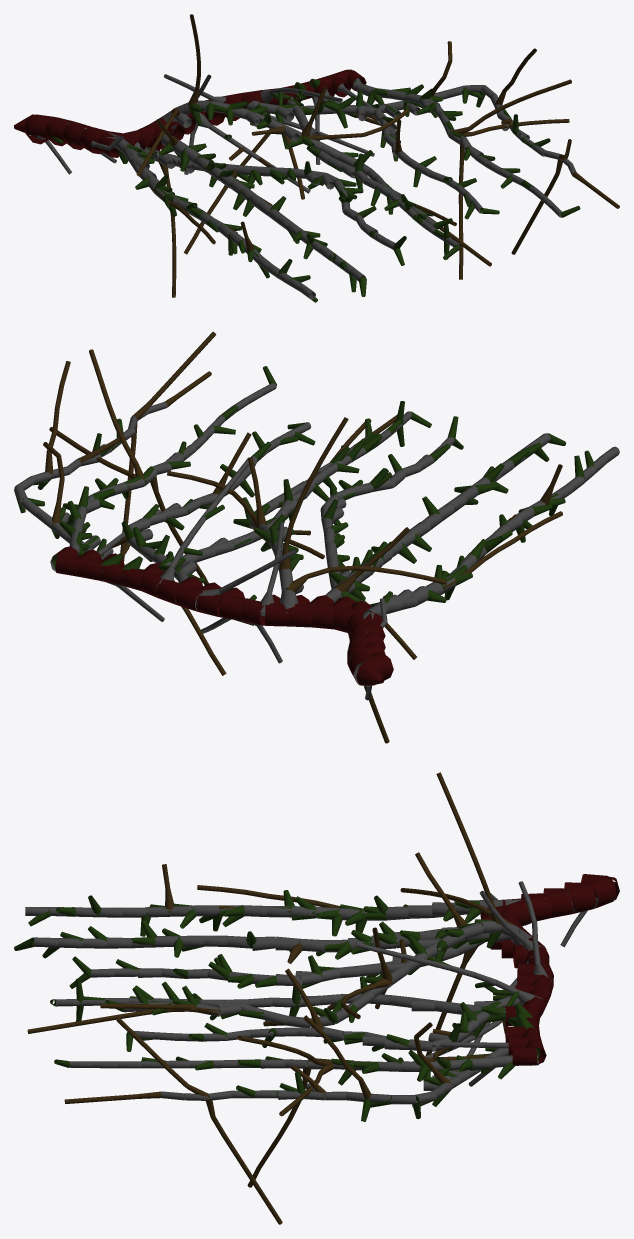
File: tree_13.obj
The picture shows the model from 3 angles, top to bottom: view 1: azimuth 30°, elevation 25°; view 2: azimuth 150°, elevation 25°; view 3: azimuth 270°, elevation 25°; orthographic projection. The views are drawn at different scales.
Size of the model in its own units: 23.72 by 14.73 by 24.96.
